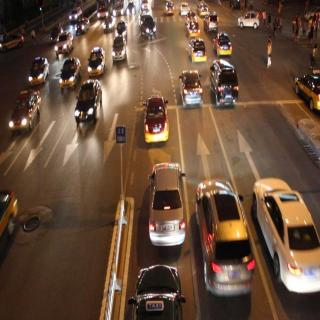Car: (252, 176, 320, 294), (193, 181, 255, 296), (147, 162, 186, 245), (129, 263, 183, 320), (140, 91, 170, 145), (9, 90, 41, 138), (209, 61, 239, 110), (292, 71, 320, 117), (76, 81, 102, 126), (176, 69, 203, 107), (59, 55, 80, 86), (29, 54, 47, 88), (88, 44, 106, 75), (215, 30, 232, 56), (237, 12, 259, 31), (190, 41, 207, 65), (55, 30, 72, 53), (111, 36, 126, 62), (142, 15, 156, 40), (204, 10, 219, 29), (74, 17, 90, 34), (196, 0, 208, 15), (165, 1, 175, 17), (188, 23, 200, 36), (179, 2, 189, 15)
